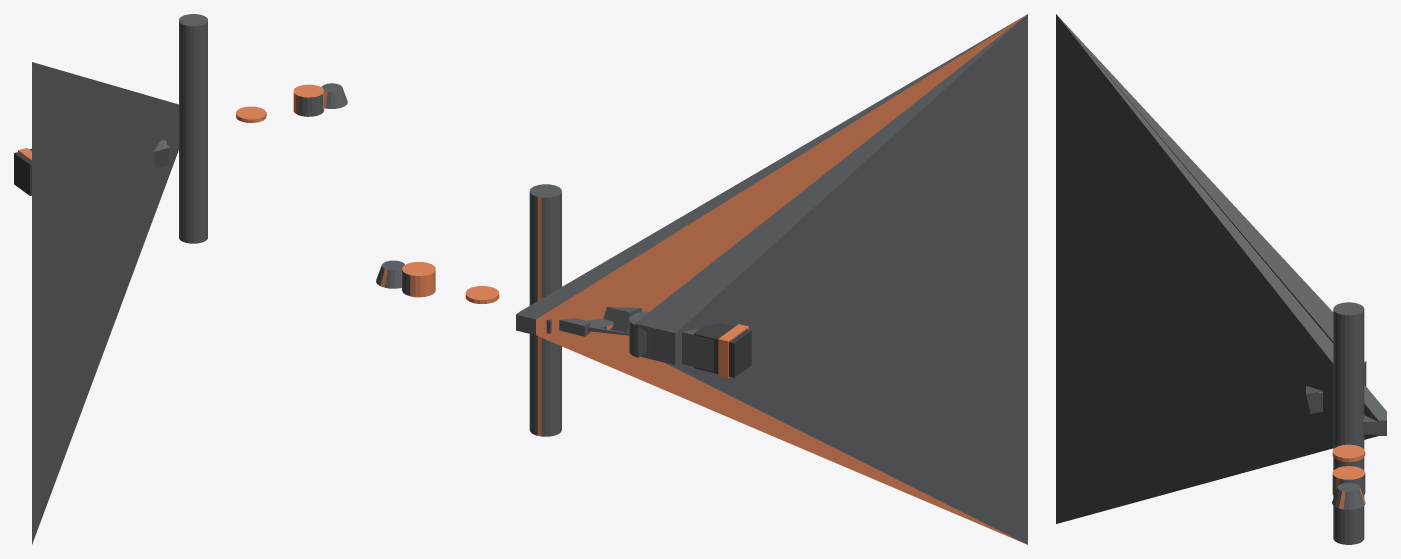
Rendered from viewmodel_rocket_launcher.gltf.
3 renders of one model, left to right at view 1: azimuth 30°, elevation 25°; view 2: azimuth 150°, elevation 25°; view 3: azimuth 270°, elevation 25°, orthographic. The views are drawn at different scales.
Visible parts, largest first — view 1: viewmodel_rocket_launcher; view 2: viewmodel_rocket_launcher; view 3: viewmodel_rocket_launcher.
Boxes of the visible parts, left/top/right/bottom form: viewmodel_rocket_launcher: left=14, top=14, right=347, bottom=544; viewmodel_rocket_launcher: left=376, top=14, right=1027, bottom=544; viewmodel_rocket_launcher: left=1056, top=14, right=1386, bottom=544.
Bounding box in the file's own units: 1.96 × 2 × 1.17.
